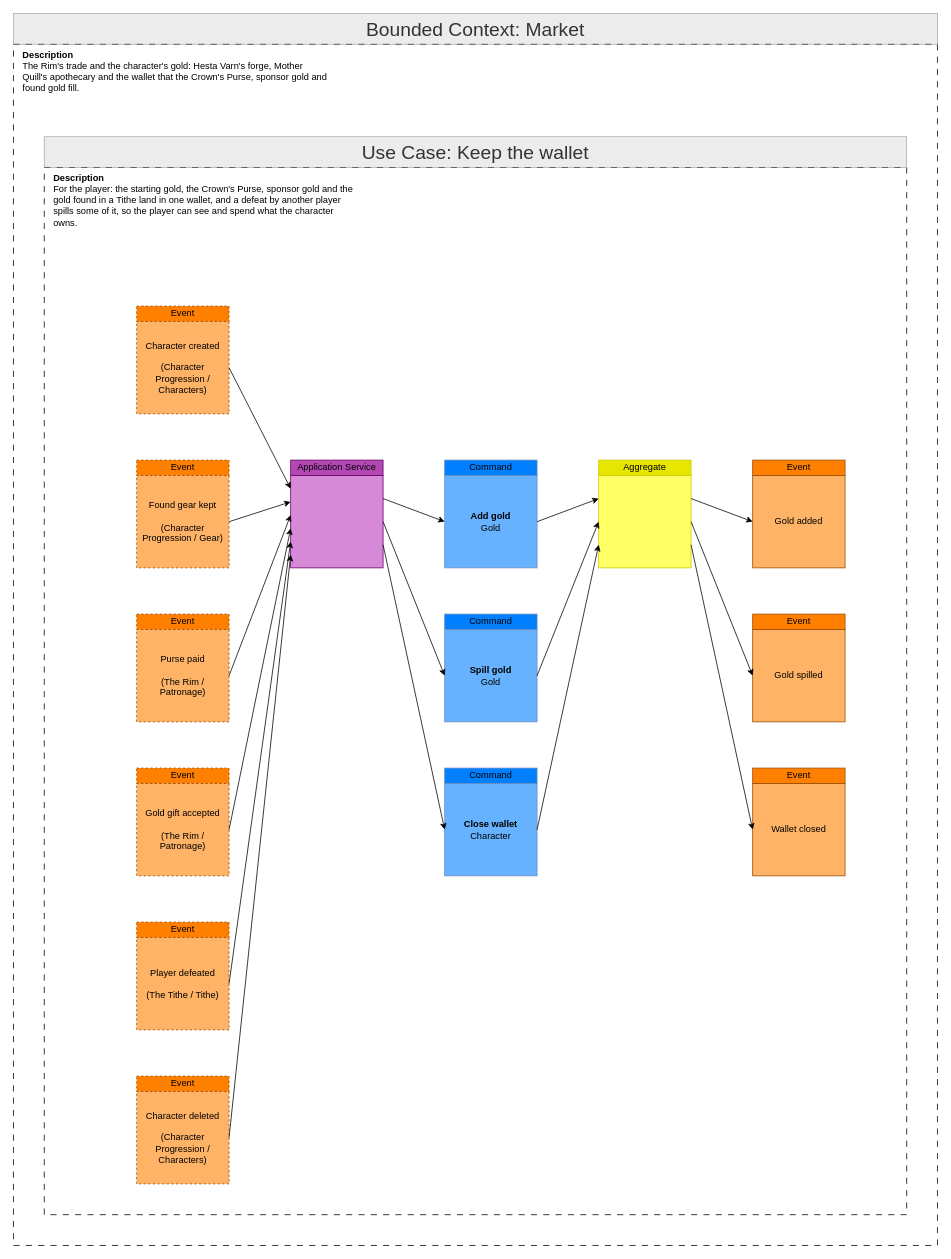
Some shapes in this 951 by 1259 pixel diagram are drawn without their labels. Each missing label, with the centre of its shape:
Banker: the point at 336,521
Wallet Gold: the point at 644,521
